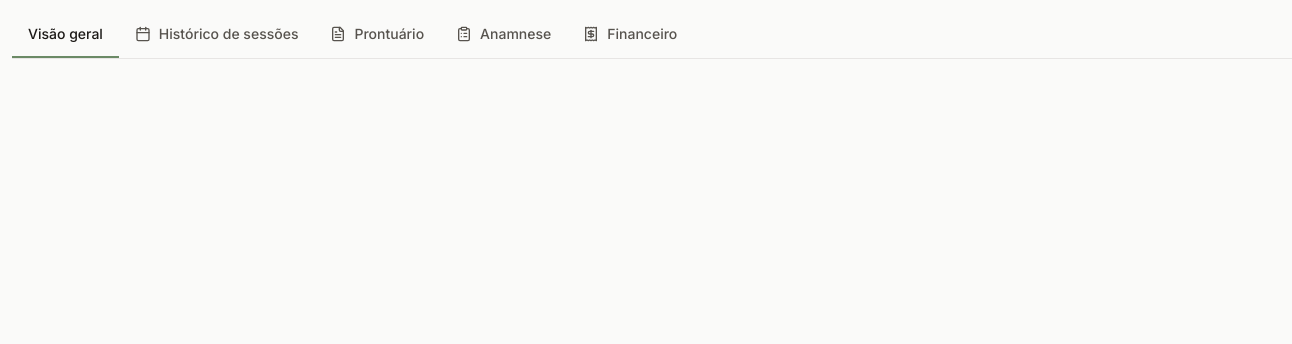
Test: PatientTabs — delta (c): "Prontuario" tab redirects › clicking the records tab shows the redirect panel with a link to the prontuario page
The width and height of the screenshot is (1292, 344).
Click the tab with test id "patient-tab-records": {"x": 377, "y": 35} [314,12,440,58]
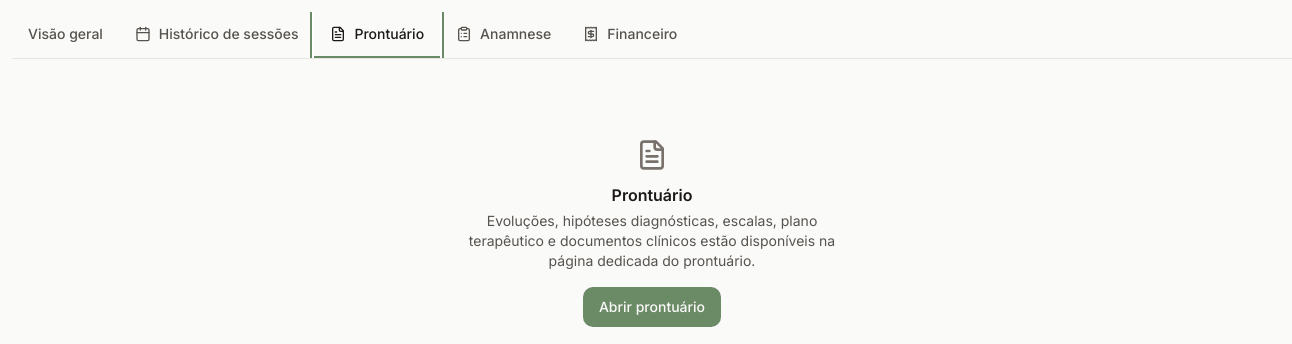
Result: the panel with test id "patient-tab-content-records" is shown at [469,139,835,327]
Result: the panel with test id "patient-tab-content-records" shows "Prontuário" at [612,185,692,205]
